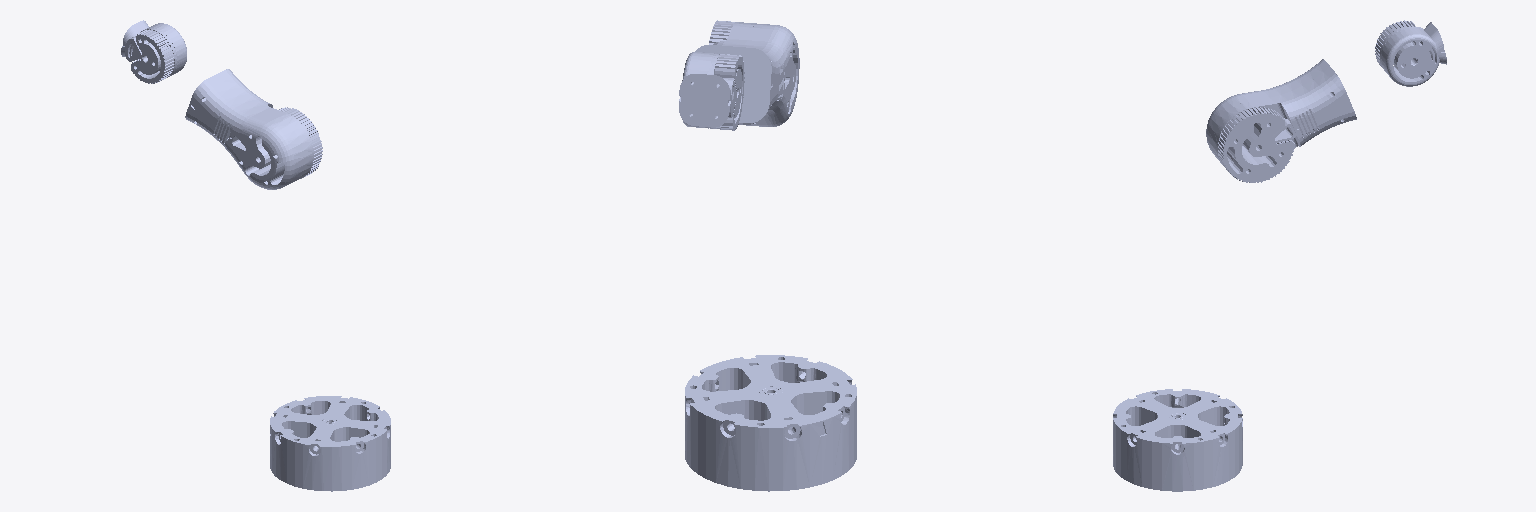
The robot description file, URDF, robot "desktop-arm":
<?xml version="1.0" encoding="utf-8"?>
<!-- This URDF was automatically created by SolidWorks to URDF Exporter! Originally created by [author] ([email redacted]) 
     Commit Version: 1.6.0-4-g7f85cfe  Build Version: 1.6.7995.38578
     For more information, please see http://wiki.ros.org/sw_urdf_exporter -->
<robot name="desktop-arm" xmlns:xacro="http://ros.org/wiki/xacro">
  <link
    name="base_link">
    <inertial>
      <origin
        xyz="0.032063 -0.15615 0.060422"
        rpy="0 0 0" />
      <mass
        value="0.64235" />
      <inertia
        ixx="0.0015157"
        ixy="-2.584E-07"
        ixz="-1.4498E-07"
        iyy="0.0015152"
        iyz="6.003E-08"
        izz="0.002624" />
    </inertial>
    <visual>
      <origin
        xyz="0 0 0"
        rpy="0 0 0" />
      <geometry>
        <mesh
          filename="package://desktop_arm_description/meshes/base_link.STL" />
      </geometry>
      <material
        name="">
        <color
          rgba="0.79216 0.81961 0.93333 1" />
      </material>
    </visual>
    <collision>
      <origin
        xyz="0 0 0"
        rpy="0 0 0" />
      <geometry>
        <mesh
          filename="package://desktop_arm_description/meshes/base_link.STL" />
      </geometry>
    </collision>
  </link>
  <link
    name="link_1">
    <inertial>
      <origin
        xyz="1.32150942671883E-05 0.0840712343150202 -0.000226674153144618"
        rpy="0 0 0" />
      <mass
        value="2.06098242470071" />
      <inertia
        ixx="0.00723151267076472"
        ixy="8.50060421303669E-08"
        ixz="-0.000493369007400085"
        iyy="0.00643124857029598"
        iyz="8.77055790859003E-07"
        izz="0.00833376606191396" />
    </inertial>
    <visual>
      <origin
        xyz="0 0 0"
        rpy="0 0 0" />
      <geometry>
        <mesh
          filename="package://desktop_arm_description/meshes/link_1.STL" />
      </geometry>
      <material
        name="">
        <color
          rgba="0.792156862745098 0.819607843137255 0.933333333333333 1" />
      </material>
    </visual>
    <collision>
      <origin
        xyz="0 0 0"
        rpy="0 0 0" />
      <geometry>
        <mesh
          filename="package://desktop_arm_description/meshes/link_1.STL" />
      </geometry>
    </collision>
  </link>
  <joint
    name="joint_1"
    type="revolute">
    <origin
      xyz="0.0320497775774861 -0.156148136610897 0.0881843828733705"
      rpy="1.5707963267949 0 0.70838946909971" />
    <parent
      link="base_link" />
    <child
      link="link_1" />
    <axis
      xyz="0 1 0" />
    <limit
      lower="-1.3"
      upper="1.3"
      effort="0"
      velocity="0" />
  </joint>
  <link
    name="link_2">
    <inertial>
      <origin
        xyz="0.01789 0.058654 -0.05071"
        rpy="0 0 0" />
      <mass
        value="1.9263" />
      <inertia
        ixx="0.0047439"
        ixy="-0.00037569"
        ixz="0.00028127"
        iyy="0.0038445"
        iyz="0.00096517"
        izz="0.0041374" />
    </inertial>
    <visual>
      <origin
        xyz="0 0 0"
        rpy="0 0 0" />
      <geometry>
        <mesh
          filename="package://desktop_arm_description/meshes/link_2.STL" />
      </geometry>
      <material
        name="">
        <color
          rgba="0.79216 0.81961 0.93333 1" />
      </material>
    </visual>
    <collision>
      <origin
        xyz="0 0 0"
        rpy="0 0 0" />
      <geometry>
        <mesh
          filename="package://desktop_arm_description/meshes/link_2.STL" />
      </geometry>
    </collision>
  </link>
  <joint
    name="joint_2"
    type="revolute">
    <origin
      xyz="0 0.1655 0"
      rpy="0.288567690879059 -0.0158462661982318 0.10895820907763" />
    <parent
      link="link_1" />
    <child
      link="link_2" />
    <axis
      xyz="0.934125217802764 0 0.356945482482884" />
    <limit
      lower="-1.3"
      upper="1.3"
      effort="0"
      velocity="0" />
  </joint>
  <link
    name="link_3">
    <inertial>
      <origin
        xyz="0.0139481789637224 0.0146668632687502 -0.0359246194913087"
        rpy="0 0 0" />
      <mass
        value="0.725230105179457" />
      <inertia
        ixx="0.00179957485676987"
        ixy="-0.000147553492540297"
        ixz="0.000456755493645833"
        iyy="0.00154110709734523"
        iyz="0.00038828009924826"
        izz="0.000772747821956818" />
    </inertial>
    <visual>
      <origin
        xyz="0 0 0"
        rpy="0 0 0" />
      <geometry>
        <mesh
          filename="package://desktop_arm_description/meshes/link_3.STL" />
      </geometry>
      <material
        name="">
        <color
          rgba="0.792156862745098 0.819607843137255 0.933333333333333 1" />
      </material>
    </visual>
    <collision>
      <origin
        xyz="0 0 0"
        rpy="0 0 0" />
      <geometry>
        <mesh
          filename="package://desktop_arm_description/meshes/link_3.STL" />
      </geometry>
    </collision>
  </link>
  <joint
    name="joint_3"
    type="revolute">
    <origin
      xyz="0.0533123755144546 0.163058763880744 -0.139518320956508"
      rpy="-0.28856769087906 -0.0158462661982266 -0.10895820907763" />
    <parent
      link="link_2" />
    <child
      link="link_3" />
    <axis
      xyz="0.934125217802763 0 0.356945482482886" />
    <limit
      lower="-1.3"
      upper="1.3"
      effort="0"
      velocity="0" />
  </joint>
  <link
    name="link_4">
    <inertial>
      <origin
        xyz="0.0184305955320793 0.0223219439403024 -0.0554419139160314"
        rpy="0 0 0" />
      <mass
        value="0.332133737054409" />
      <inertia
        ixx="0.000492451112757706"
        ixy="-2.8044250164716E-05"
        ixz="6.1771366365912E-05"
        iyy="0.000556523835973434"
        iyz="0.000103934198616861"
        izz="0.00036921676282899" />
    </inertial>
    <visual>
      <origin
        xyz="0 0 0"
        rpy="0 0 0" />
      <geometry>
        <mesh
          filename="package://desktop_arm_description/meshes/link_4.STL" />
      </geometry>
      <material
        name="">
        <color
          rgba="0.792156862745098 0.819607843137255 0.933333333333333 1" />
      </material>
    </visual>
    <collision>
      <origin
        xyz="0 0 0"
        rpy="0 0 0" />
      <geometry>
        <mesh
          filename="package://desktop_arm_description/meshes/link_4.STL" />
      </geometry>
    </collision>
  </link>
  <joint
    name="joint_4"
    type="revolute">
    <origin
      xyz="0.039132 0.040964 -0.10092"
      rpy="-0.81888 0.68462 3.0043" />
    <parent
      link="link_3" />
    <child
      link="link_4" />
    <axis
      xyz="0.33384 0.35396 -0.87365" />
    <limit
      lower="-1.3"
      upper="1.3"
      effort="0"
      velocity="0" />
  </joint>
  <link
    name="link_5">
    <inertial>
      <origin
        xyz="0.0003711 -0.0019484 -0.0032986"
        rpy="0 0 0" />
      <mass
        value="0.15863" />
      <inertia
        ixx="0.0001012"
        ixy="-3.4148E-06"
        ixz="1.3247E-05"
        iyy="6.4478E-05"
        iyz="-7.7884E-06"
        izz="6.1328E-05" />
    </inertial>
    <visual>
      <origin
        xyz="0 0 0"
        rpy="0 0 0" />
      <geometry>
        <mesh
          filename="package://desktop_arm_description/meshes/link_5.STL" />
      </geometry>
      <material
        name="">
        <color
          rgba="0.79216 0.81961 0.93333 1" />
      </material>
    </visual>
    <collision>
      <origin
        xyz="0 0 0"
        rpy="0 0 0" />
      <geometry>
        <mesh
          filename="package://desktop_arm_description/meshes/link_5.STL" />
      </geometry>
    </collision>
  </link>
  <joint
    name="joint_5"
    type="revolute">
    <origin
      xyz="0.035644 0.037793 -0.09328"
      rpy="0.99317 -0.27115 0.21303" />
    <parent
      link="link_4" />
    <child
      link="link_5" />
    <axis
      xyz="0.9426 -0.13293 0.30633" />
    <limit
      lower="-1.3"
      upper="1.3"
      effort="0"
      velocity="0" />
  </joint>
  <link
    name="end_effector">
    <inertial>
      <origin
        xyz="0.14241 0.38652 -0.15071"
        rpy="0 0 0" />
      <mass
        value="0.069485" />
      <inertia
        ixx="1.6525E-05"
        ixy="2.5479E-06"
        ixz="-8.6292E-07"
        iyy="2.184E-05"
        iyz="-5.1516E-06"
        izz="1.5862E-05" />
    </inertial>
    <visual>
      <origin
        xyz="0 0 0"
        rpy="0 0 0" />
      <geometry>
        <mesh
          filename="package://desktop_arm_description/meshes/end_effector.STL" />
      </geometry>
      <material
        name="">
        <color
          rgba="0.79216 0.81961 0.93333 1" />
      </material>
    </visual>
    <collision>
      <origin
        xyz="0 0 0"
        rpy="0 0 0" />
      <geometry>
        <mesh
          filename="package://desktop_arm_description/meshes/end_effector.STL" />
      </geometry>
    </collision>
  </link>
  <joint
    name="joint_6"
    type="revolute">
    <origin
      xyz="0.17605 0.29813 -0.29218"
      rpy="1.1615 0.33095 -2.9233" />
    <parent
      link="link_5" />
    <child
      link="end_effector" />
    <axis
      xyz="0 0 0" />
  </joint>
  <link name="tool0"/>
  <joint name="joint6-tool0" type="fixed">
    <parent link="end_effector"/>
    <child link="tool0"/>
    <origin rpy="0 0.5 0" xyz="0 0 0"/>
  </joint>
  <link name="base"/>
  <joint name="base_link-base" type="fixed">
    <origin rpy="0 0 0" xyz="0 0 0"/>
    <parent link="base_link"/>
    <child link="base"/>
  </joint>
</robot>

--- Facts derived from the render (not from the file) ---
The picture shows the robot from 3 angles, left to right: view 1: azimuth 30°, elevation 25°; view 2: azimuth 150°, elevation 25°; view 3: azimuth 270°, elevation 25°; orthographic projection.
Model desktop-arm with 9 links and 8 joints (6 revolute, 2 fixed), rooted at base_link, posed all joints at 0.
Visible links, largest first — view 1: base_link, link_3, link_5; view 2: base_link, link_3, link_5; view 3: base_link, link_3, link_5.
Boxes of the visible links, bbox=[...] form: base_link: bbox=[270, 396, 390, 491]; link_3: bbox=[185, 69, 322, 189]; link_5: bbox=[121, 20, 186, 83]; base_link: bbox=[685, 355, 856, 491]; link_3: bbox=[695, 20, 799, 126]; link_5: bbox=[679, 52, 744, 130]; base_link: bbox=[1113, 389, 1242, 491]; link_3: bbox=[1206, 59, 1356, 182]; link_5: bbox=[1375, 20, 1446, 86].
Bounding box of the posed robot: 0.2173 × 0.4117 × 0.5451 m (x, y, z).
3 mesh visuals loaded from 7 distinct referenced files (3 binary STL); not drawn: 4 (reference not matched to a file when rendering).